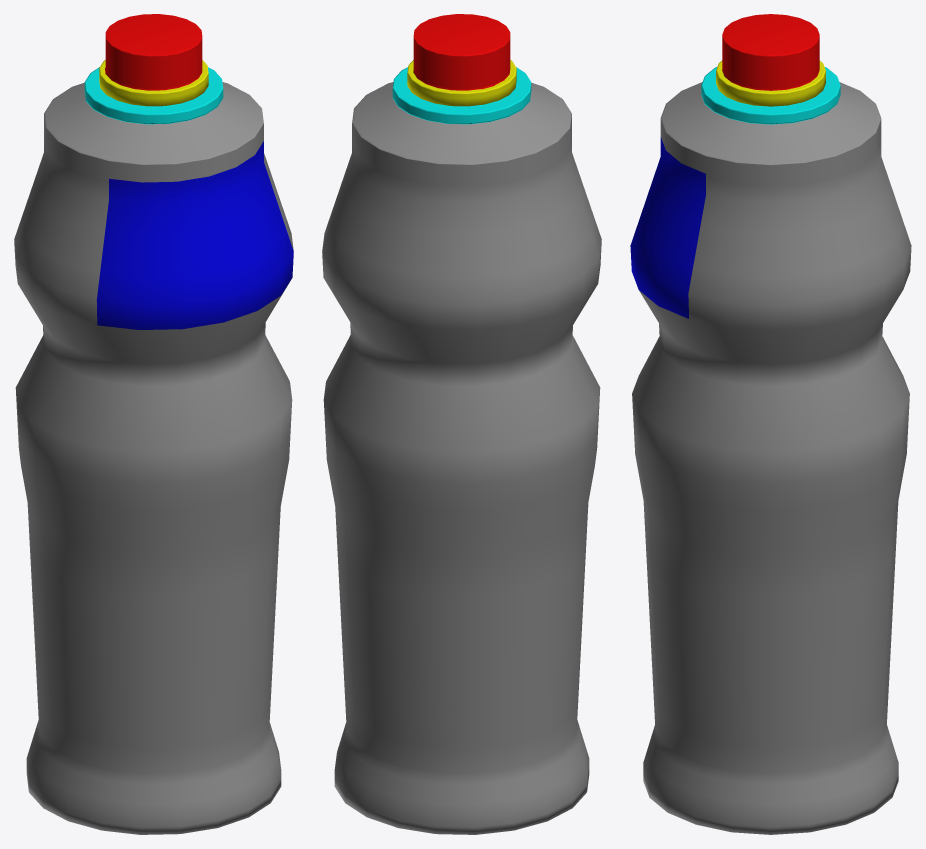
The model's file is plastic bottle.fbx.
The picture shows the model from 3 angles, left to right: view 1: azimuth 30°, elevation 25°; view 2: azimuth 150°, elevation 25°; view 3: azimuth 270°, elevation 25°; orthographic projection.
Visible parts, largest first — view 1: pCylinder1; view 2: pCylinder1; view 3: pCylinder1.
Boxes of the visible parts, <box> form: pCylinder1: <box>14,14,293,834</box>; pCylinder1: <box>322,14,601,834</box>; pCylinder1: <box>630,14,911,834</box>.
Bounding box in the file's own units: 4.09 × 11.98 × 4.09.
